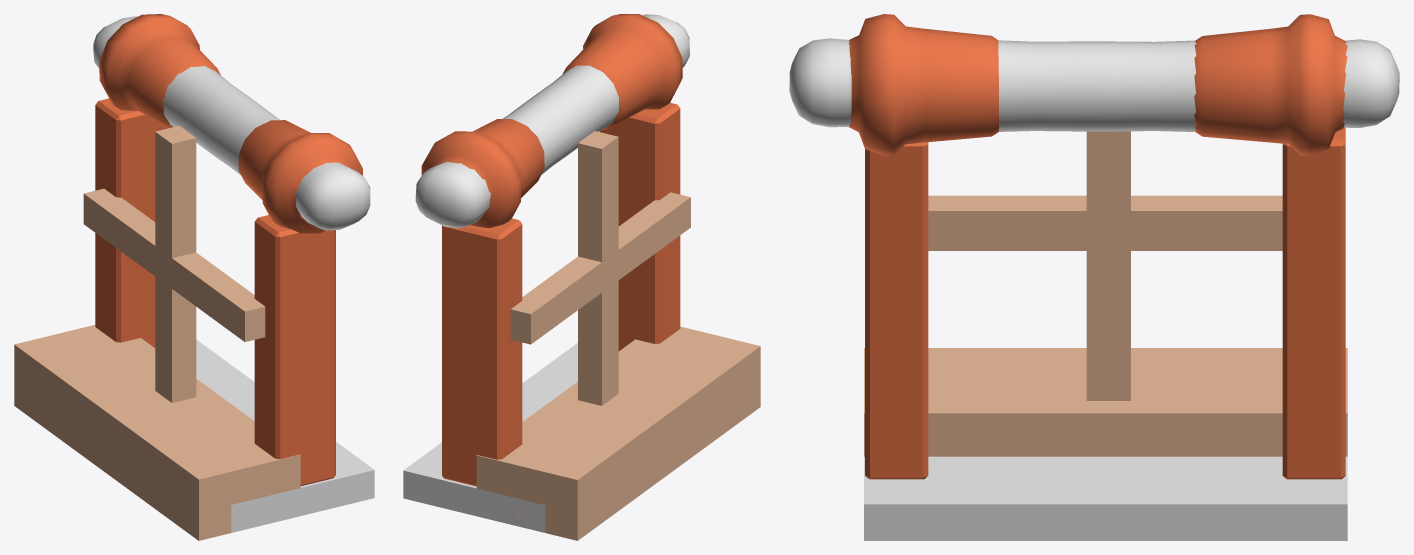
The model's file is Window_01.fbx.
3 renders of one model, left to right at view 1: azimuth 30°, elevation 25°; view 2: azimuth 150°, elevation 25°; view 3: azimuth 270°, elevation 25°, orthographic. The views are drawn at different scales.
Parts seen in each view (by area): view 1: Cube.288; view 2: Cube.288; view 3: Cube.288.
Boxes of the visible parts, x1=… form: Cube.288: x1=14, y1=14, x2=374, y2=540; Cube.288: x1=403, y1=14, x2=760, y2=540; Cube.288: x1=789, y1=14, x2=1399, y2=540.
Bounding box in the file's own units: 56.8 × 114 × 130.
